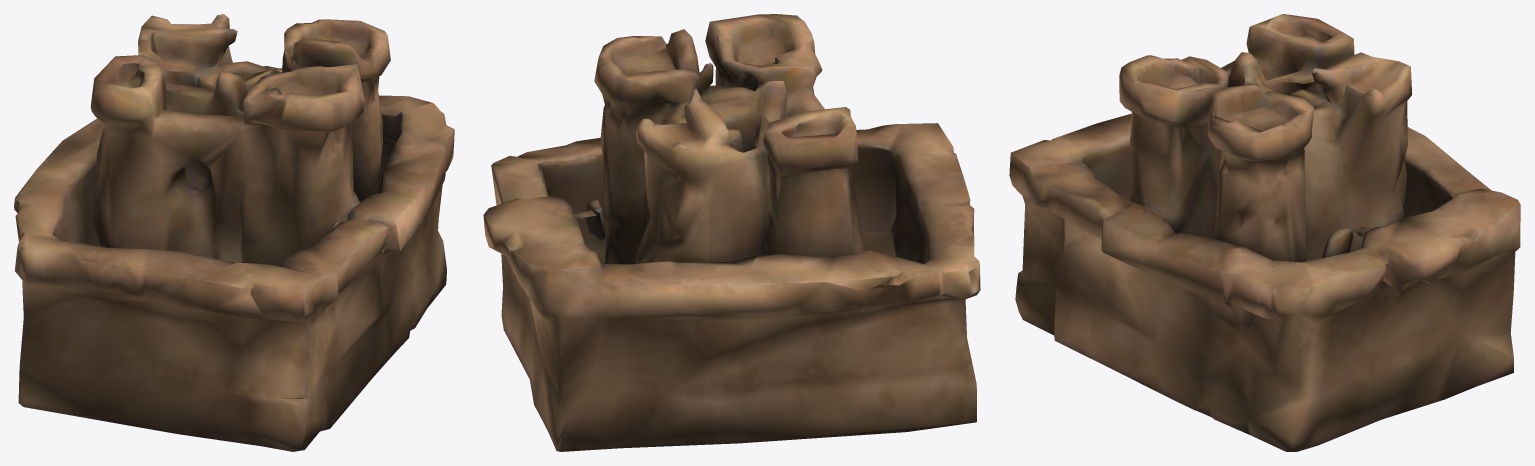
Rendered from rustic-sandstone-battlement-wall-v001.glb.
The picture shows the model from 3 angles, left to right: view 1: azimuth 30°, elevation 25°; view 2: azimuth 150°, elevation 25°; view 3: azimuth 270°, elevation 25°; orthographic projection. The views are drawn at different scales.
Visible parts, largest first — view 1: rustic-sandstone-battlement-wall; view 2: rustic-sandstone-battlement-wall; view 3: rustic-sandstone-battlement-wall.
Part boxes in pixels (x1,y1,x2,y2): rustic-sandstone-battlement-wall: (14,14,454,451); rustic-sandstone-battlement-wall: (483,14,980,451); rustic-sandstone-battlement-wall: (1009,14,1520,451).
Size of the model in its own units: 2.76 by 1.76 by 2.75.
1 material, 1 textured.
